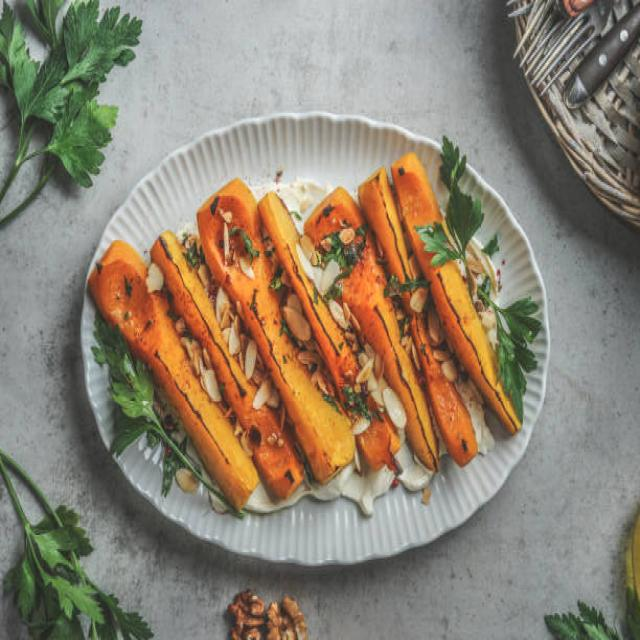pumpkin: (198, 178, 355, 483), (89, 242, 259, 509), (151, 231, 302, 496), (304, 188, 438, 470), (391, 152, 521, 434), (259, 191, 358, 400), (411, 315, 478, 466), (359, 167, 415, 282)
